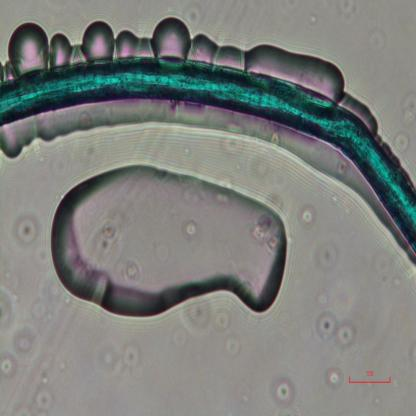Air bubble: (47, 152, 295, 322), (0, 104, 191, 160), (192, 30, 286, 74), (280, 41, 347, 97), (116, 14, 193, 59), (6, 18, 52, 76), (80, 18, 116, 61), (49, 32, 73, 66)
Background material: (178, 301, 230, 345), (100, 336, 144, 378), (392, 79, 416, 152), (317, 307, 358, 349), (7, 323, 38, 361), (32, 284, 62, 321), (13, 212, 40, 249), (216, 121, 245, 154), (271, 374, 297, 410), (317, 238, 342, 274), (336, 0, 362, 31), (363, 22, 391, 50), (246, 152, 271, 180), (0, 278, 13, 329), (322, 363, 345, 390), (0, 351, 19, 381), (224, 335, 241, 362), (36, 387, 52, 413), (300, 204, 317, 228), (314, 291, 329, 310)
Microfibre: (0, 56, 416, 252)
